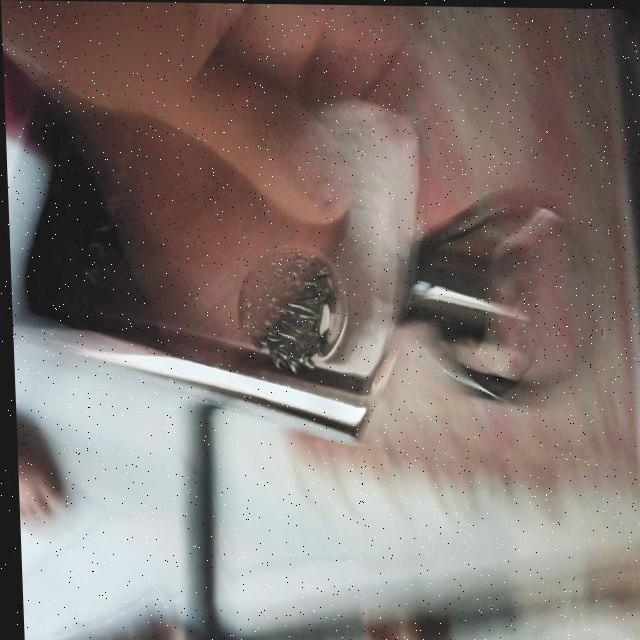Afnan: (3, 50, 597, 445)
